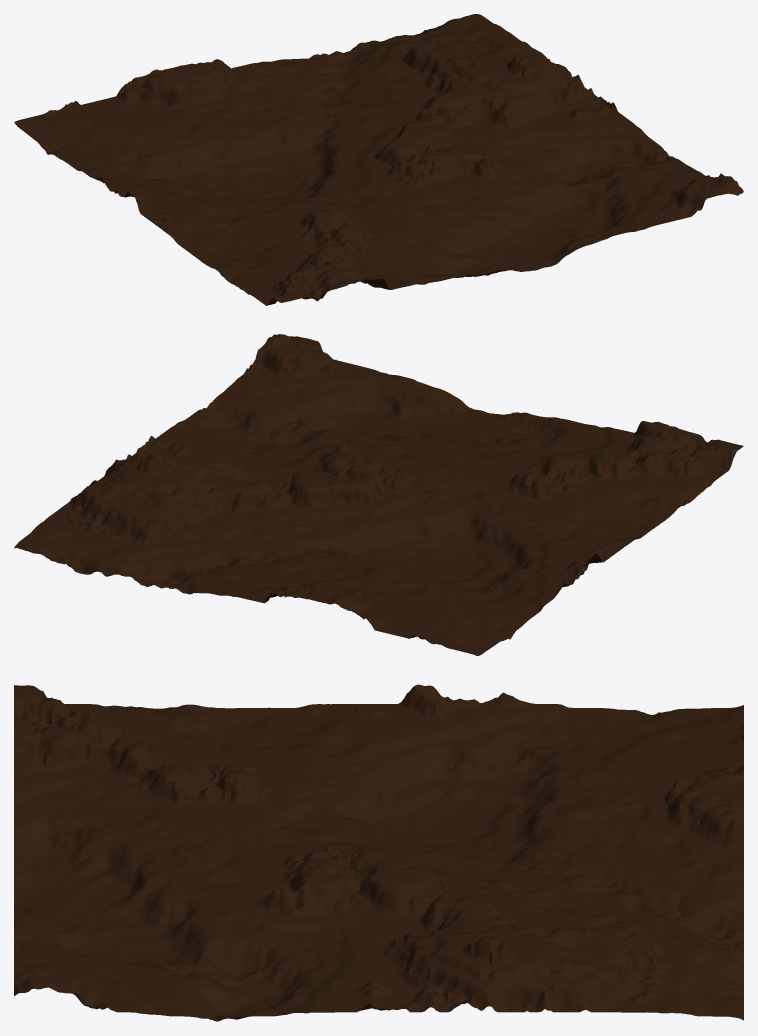
File: 2x2.3_Squares_200m_004.glb
The picture shows the model from 3 angles, top to bottom: view 1: azimuth 30°, elevation 25°; view 2: azimuth 150°, elevation 25°; view 3: azimuth 270°, elevation 25°; orthographic projection. The views are drawn at different scales.
Parts seen in each view (by area): view 1: Cube; view 2: Cube; view 3: Cube.
Part boxes in pixels (<box>): Cube: <box>14,14,743,305</box>; Cube: <box>14,334,743,655</box>; Cube: <box>14,684,743,1021</box>.
Bounding box in the file's own units: 500 × 53.11 × 500.
